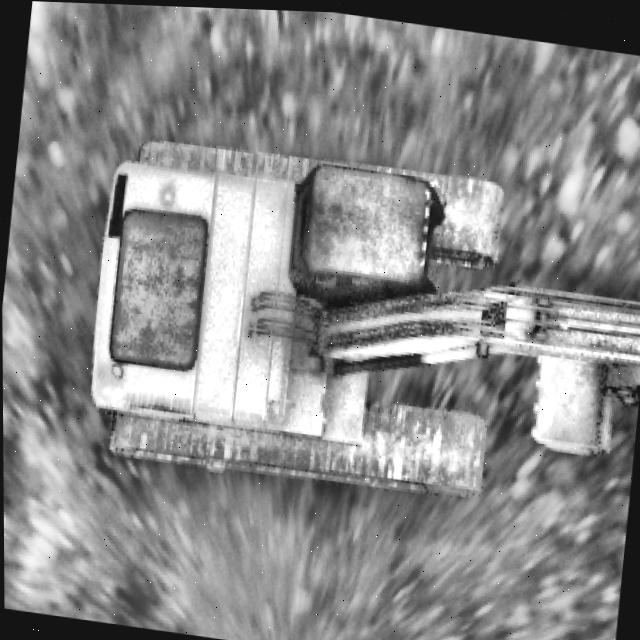excavator: (78, 126, 640, 524)
